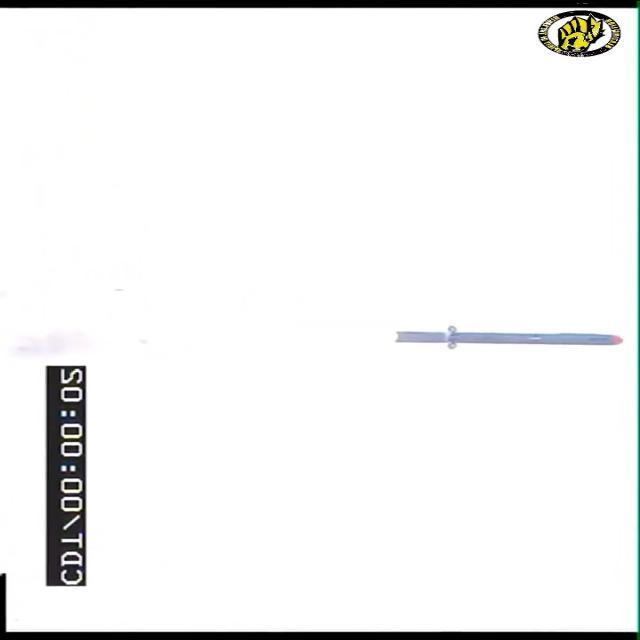Missile: (398, 318, 640, 350)
